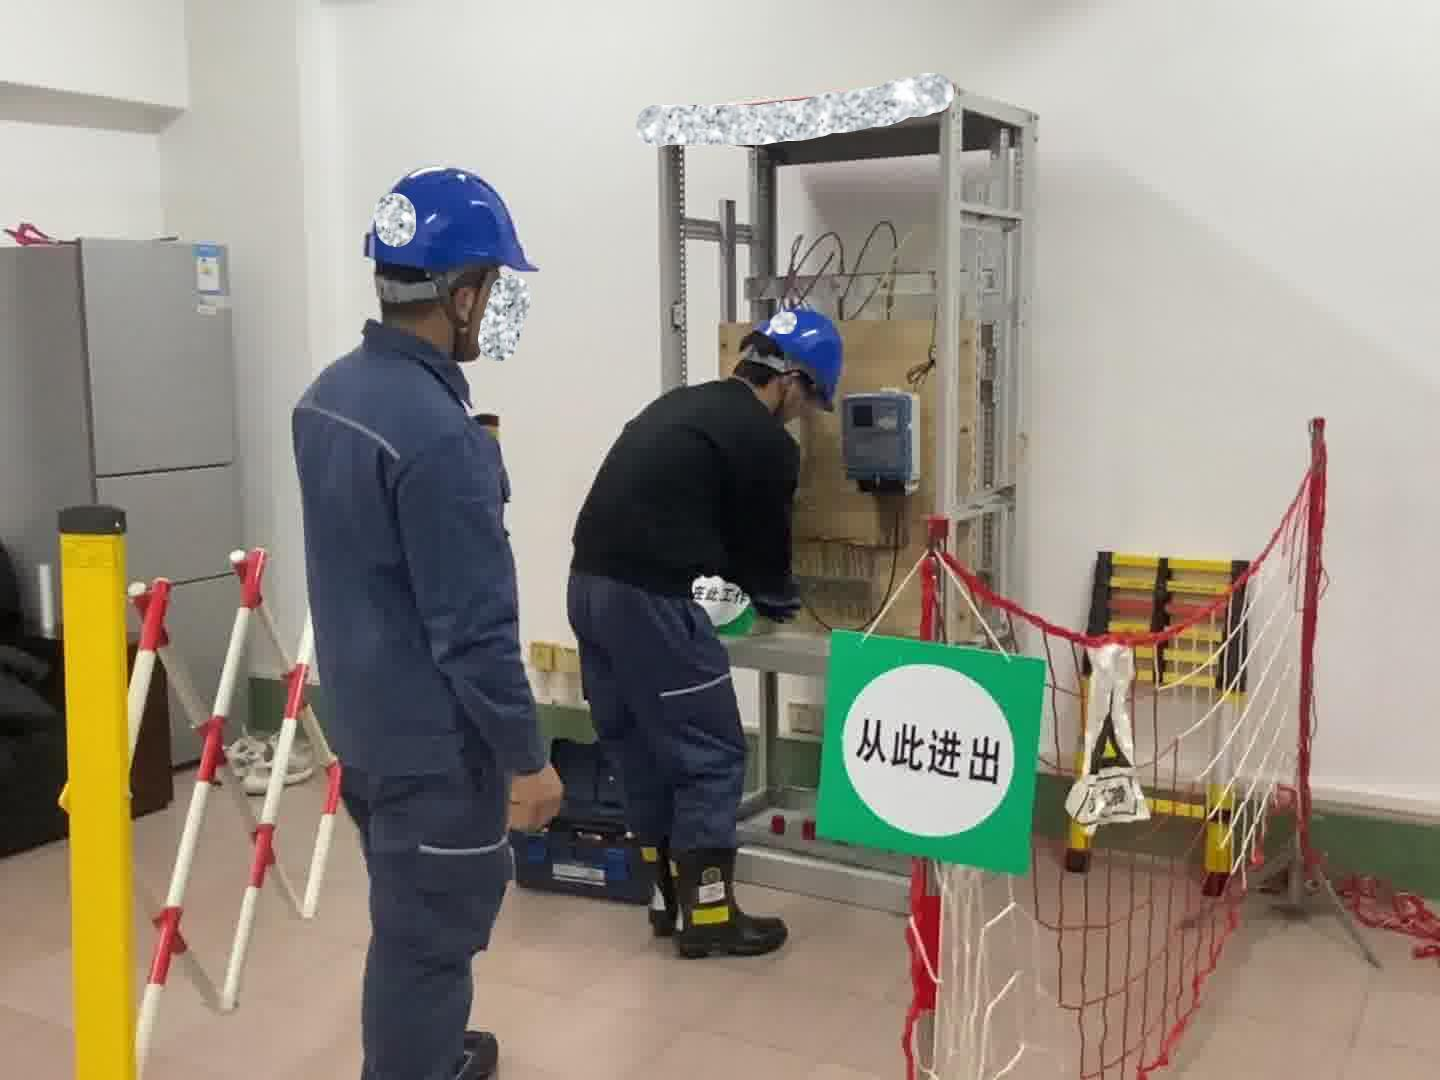halt: (362, 168, 541, 362), (738, 311, 849, 421)
inear: (437, 271, 490, 349), (768, 368, 808, 417)
